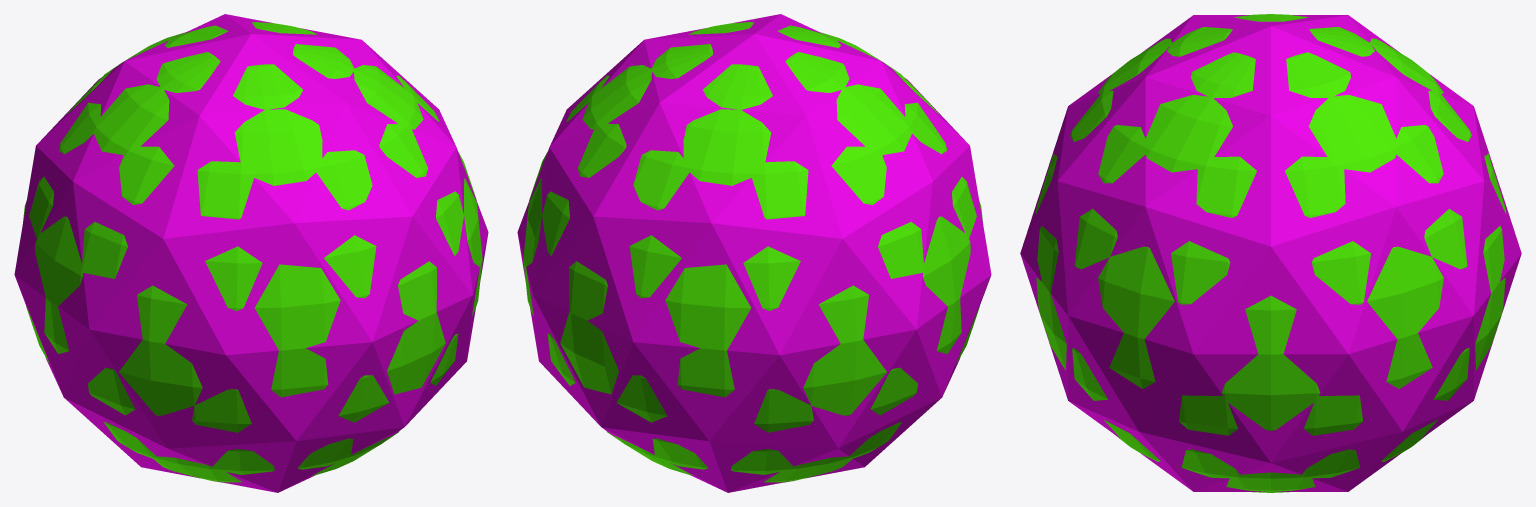
Rendered from pumpsphere.glb.
3 renders of one model, left to right at view 1: azimuth 30°, elevation 25°; view 2: azimuth 150°, elevation 25°; view 3: azimuth 270°, elevation 25°, orthographic. The views are drawn at different scales.
Visible parts, largest first — view 1: Icosphere, Sphere; view 2: Icosphere, Sphere; view 3: Icosphere, Sphere.
Part boxes in pixels (bbox=[...]): Icosphere: bbox=[14, 14, 488, 492]; Sphere: bbox=[23, 22, 482, 482]; Icosphere: bbox=[517, 14, 991, 492]; Sphere: bbox=[523, 22, 982, 482]; Icosphere: bbox=[1020, 15, 1521, 491]; Sphere: bbox=[1035, 14, 1506, 492].
Size of the model in its own units: 1.91 by 2 by 2.
